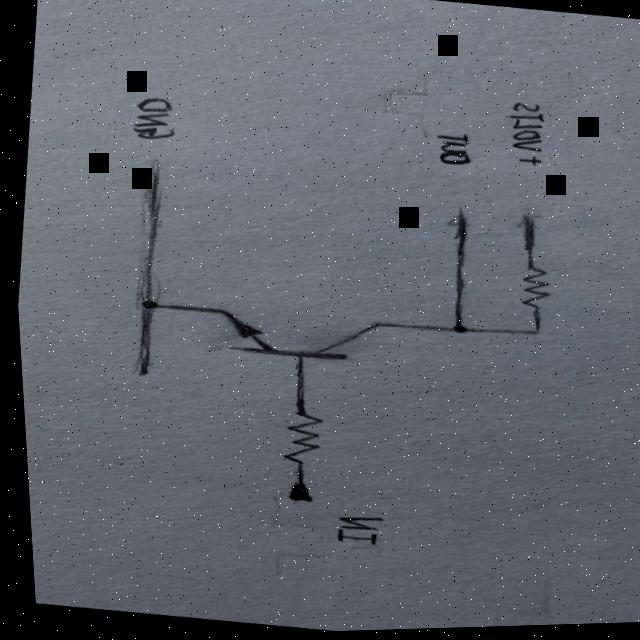junction: (125, 293, 168, 318), (441, 320, 476, 341), (523, 329, 541, 340)
resistor: (264, 405, 329, 473), (501, 261, 559, 320)
terminal: (270, 474, 321, 511), (138, 154, 167, 172), (511, 211, 541, 228), (445, 206, 470, 224), (124, 364, 152, 379)
text: (497, 99, 558, 159), (123, 93, 186, 146), (324, 511, 388, 553), (424, 132, 480, 173), (511, 154, 549, 173)
transistor: (198, 292, 388, 381)
